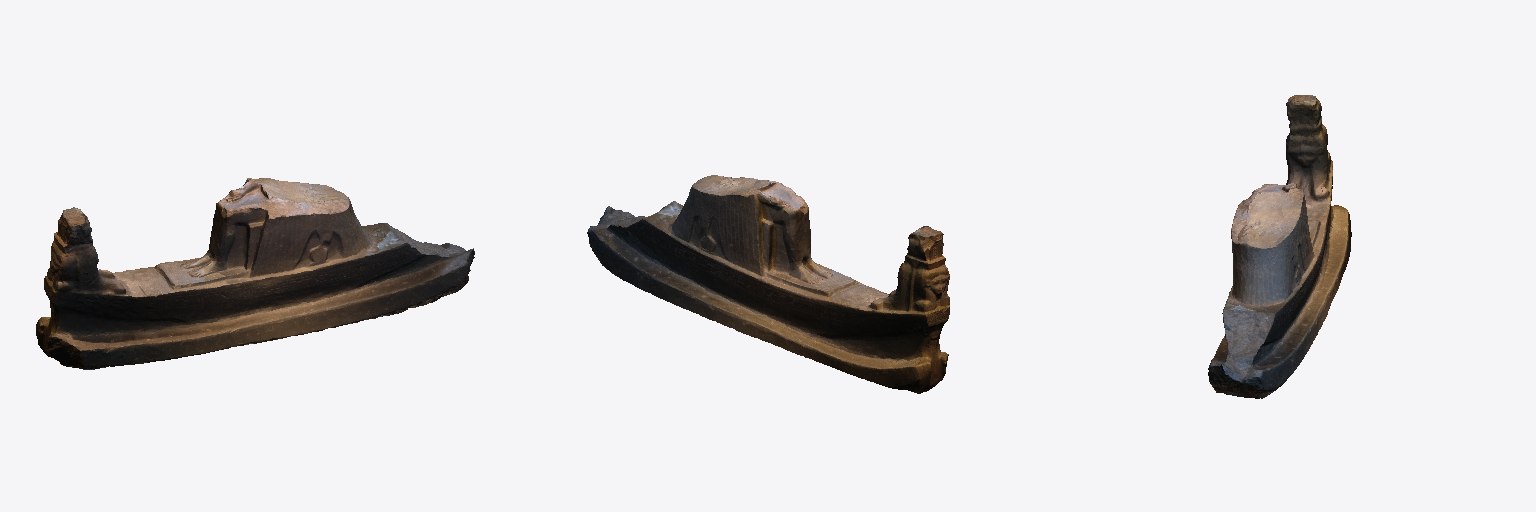
3 renders of one model, left to right at view 1: azimuth 30°, elevation 25°; view 2: azimuth 150°, elevation 25°; view 3: azimuth 270°, elevation 25°, orthographic.
Bounding box in the file's own units: 38.42 × 14.42 × 12.32.
1 materials, 1 textured.